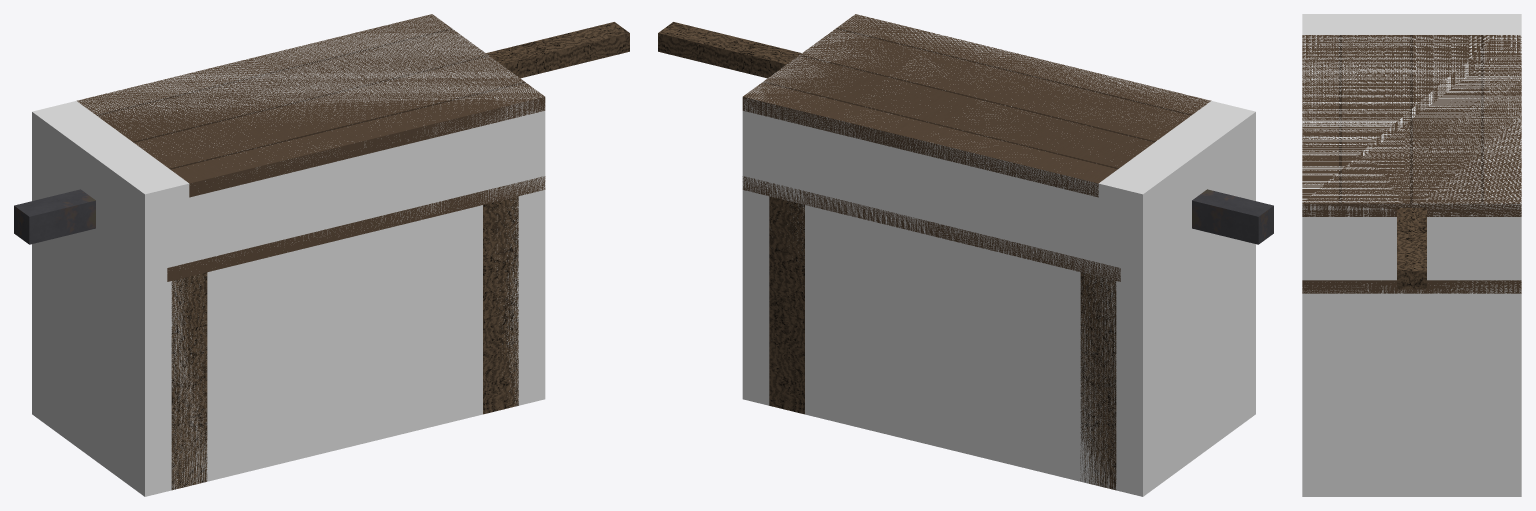
Rendered from bellows.glb.
3 renders of one model, left to right at view 1: azimuth 30°, elevation 25°; view 2: azimuth 150°, elevation 25°; view 3: azimuth 270°, elevation 25°, orthographic. The views are drawn at different scales.
Visible parts, largest first — view 1: COL_HULL_bellows, bellows; view 2: COL_HULL_bellows, bellows; view 3: COL_HULL_bellows, bellows.
Part boxes in pixels (bbox=[...]): COL_HULL_bellows: bbox=[32, 14, 545, 496]; bellows: bbox=[14, 14, 629, 490]; COL_HULL_bellows: bbox=[742, 15, 1255, 496]; bellows: bbox=[658, 14, 1273, 490]; COL_HULL_bellows: bbox=[1302, 14, 1521, 496]; bellows: bbox=[1302, 35, 1521, 293].
Bounding box in the file's own units: 1.35 × 0.65 × 0.44.
Materials: 4 (4 with a texture image).
